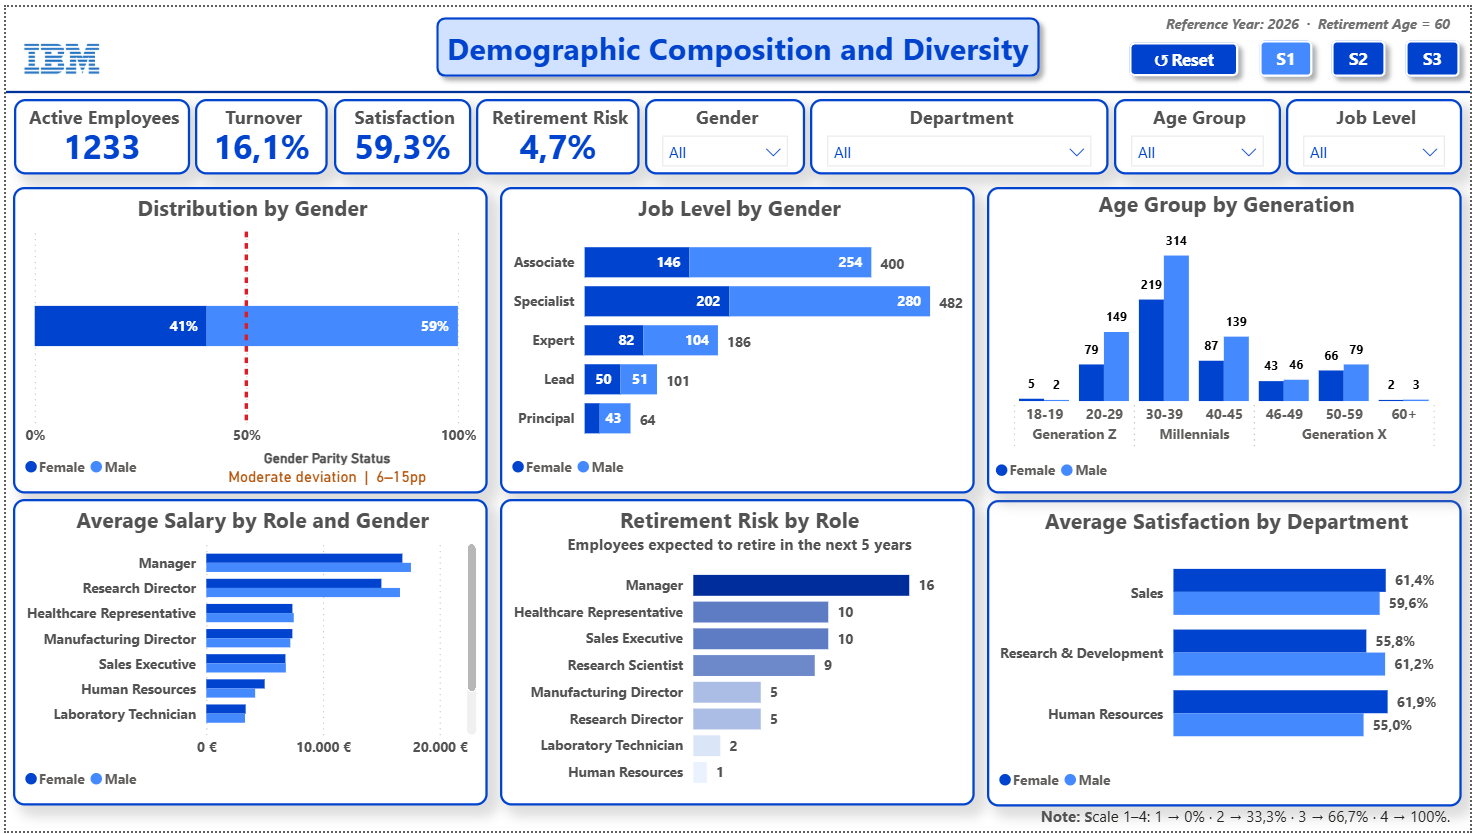

The dashboard page shown, as its layout file describes it:
{"tool":"powerbi","page":{"name":"Demography","canvas":[1280,720],"ordinal":0},"visuals":[{"type":"image","box":[8.9,5.6,80,80],"z":0},{"type":"actionButton","title":"S1","box":[1086.7,20,64.4,50],"z":1000},{"type":"shape","box":[0,68,1280,12.2],"z":2000},{"type":"actionButton","title":"S1","box":[1150,20,65.6,50],"z":3000},{"type":"actionButton","title":"S1","box":[1214.4,20,65.6,50],"z":4000},{"type":"shape","box":[367.2,0,545.6,70],"z":5000},{"type":"actionButton","box":[973.3,22.2,113.3,47.8],"z":6000},{"type":"textbox","box":[996.7,0,283.3,28.9],"z":7000},{"type":"card","title":"Active Employees","fields":{"Values":["Medidas.Total Ativos"]},"box":[7.2,80.4,153.7,66.1],"z":8000},{"type":"card","title":"Turnover","fields":{"Values":["Medidas.Taxa Attrition %"]},"box":[165.6,80,116.4,66],"z":9000},{"type":"card","title":"Satisfaction","fields":{"Values":["Medidas.Satisfação Média %"]},"box":[286.6,80.4,119.8,66.1],"z":10000},{"type":"card","title":"Retirement Risk","fields":{"Values":["Medidas.% Risco Reforma"]},"box":[411.1,80.4,143,66.1],"z":11000},{"type":"slicer","title":"Gender","fields":{"Values":["d_employee.gender"]},"box":[558.7,80,139.8,66],"z":12000},{"type":"slicer","title":"Department","fields":{"Values":["d_department.department_name"]},"box":[703.2,80.4,261,66.1],"z":13000},{"type":"slicer","title":"Age Group","fields":{"Values":["d_employee.age_band"]},"box":[968.9,80,145.6,66],"z":14000},{"type":"slicer","title":"Job Level","fields":{"Values":["d_job_role.job_level_label"]},"box":[1119.1,80.4,153.7,66.1],"z":15000},{"type":"hundredPercentStackedBarChart","title":"Distribution by Gender","fields":{"Series":["d_employee.gender"],"Y":["_Measures.Total Active Employees"]},"box":[6,157,415,268],"z":16000},{"type":"barChart","title":"Job Level by Gender","fields":{"Category":["d_job_role.job_level_label"],"Series":["d_employee.gender"],"Y":["Medidas.Total Ativos"]},"box":[432.1,157,415,268],"z":17000},{"type":"clusteredBarChart","title":"Average Salary by Role and Gender","fields":{"Category":["d_job_role.job_role_name"],"Series":["d_employee.gender"],"Y":["Medidas.Salário Médio"]},"box":[6,430,415,268],"z":18000},{"type":"barChart","title":"Retirement Risk by Role","fields":{"Category":["d_job_role.job_role_name"],"Y":["Medidas.Em Risco Reforma"]},"box":[432,430,415,268],"z":19000},{"type":"clusteredBarChart","title":"Average Satisfaction by Department","fields":{"Category":["d_department.department_name"],"Series":["d_employee.gender"],"Y":["Medidas.Satisfação Média %"]},"box":[858,431,415,268],"z":20000},{"type":"textbox","box":[900,693.3,380,26.7],"z":21000},{"type":"card","title":"Gender Parity Status","fields":{"Values":["_Measures.Paridade Status EN"]},"box":[141,387,280,42],"z":22000},{"type":"clusteredColumnChart","title":"Age Group by Generation","fields":{"Category":["d_employee.Generation Hierarchy.generation_v2","d_employee.Generation Hierarchy.age_band_v2"],"Series":["d_employee.gender"],"Y":["_Measures.Total Active Employees"]},"box":[858.1,157,415,268.2],"z":23000}]}

Visuals, with their boxes in screenshot pixels (x1, y1, x2, y2), scaled from the page's 1280x720 canvas onto the 1472x834 screenshot:
image: crop(10, 6, 102, 99)
"S1" actionButton: crop(1250, 23, 1324, 81)
shape: crop(0, 79, 1471, 93)
"S1" actionButton: crop(1322, 23, 1398, 81)
"S1" actionButton: crop(1397, 23, 1471, 81)
shape: crop(422, 0, 1050, 81)
actionButton: crop(1119, 26, 1250, 81)
textbox: crop(1146, 0, 1471, 33)
"Active Employees" card: crop(8, 93, 185, 170)
"Turnover" card: crop(190, 93, 324, 169)
"Satisfaction" card: crop(330, 93, 467, 170)
"Retirement Risk" card: crop(473, 93, 637, 170)
"Gender" slicer: crop(643, 93, 803, 169)
"Department" slicer: crop(809, 93, 1109, 170)
"Age Group" slicer: crop(1114, 93, 1282, 169)
"Job Level" slicer: crop(1287, 93, 1464, 170)
"Distribution by Gender" hundredPercentStackedBarChart: crop(7, 182, 484, 492)
"Job Level by Gender" barChart: crop(497, 182, 974, 492)
"Average Salary by Role and Gender" clusteredBarChart: crop(7, 498, 484, 809)
"Retirement Risk by Role" barChart: crop(497, 498, 974, 809)
"Average Satisfaction by Department" clusteredBarChart: crop(987, 499, 1464, 810)
textbox: crop(1035, 803, 1471, 833)
"Gender Parity Status" card: crop(162, 448, 484, 497)
"Age Group by Generation" clusteredColumnChart: crop(987, 182, 1464, 493)
